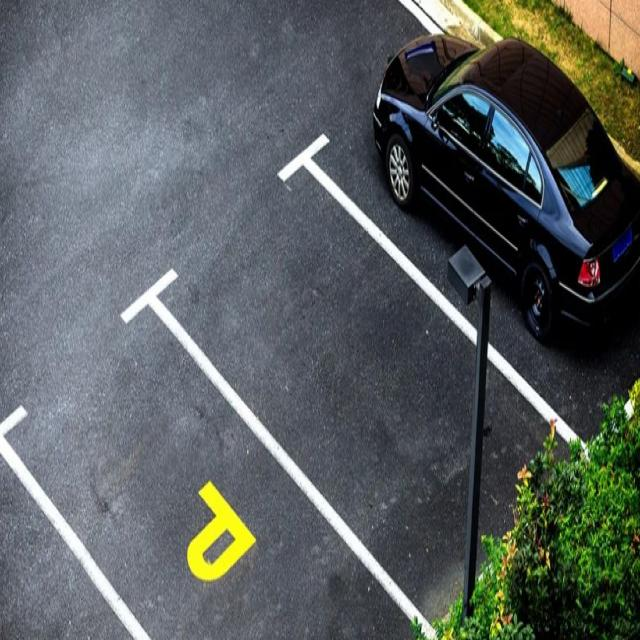libre: (164, 166, 567, 624), (10, 305, 412, 632), (2, 463, 129, 639)
ocupado: (345, 0, 639, 420)
